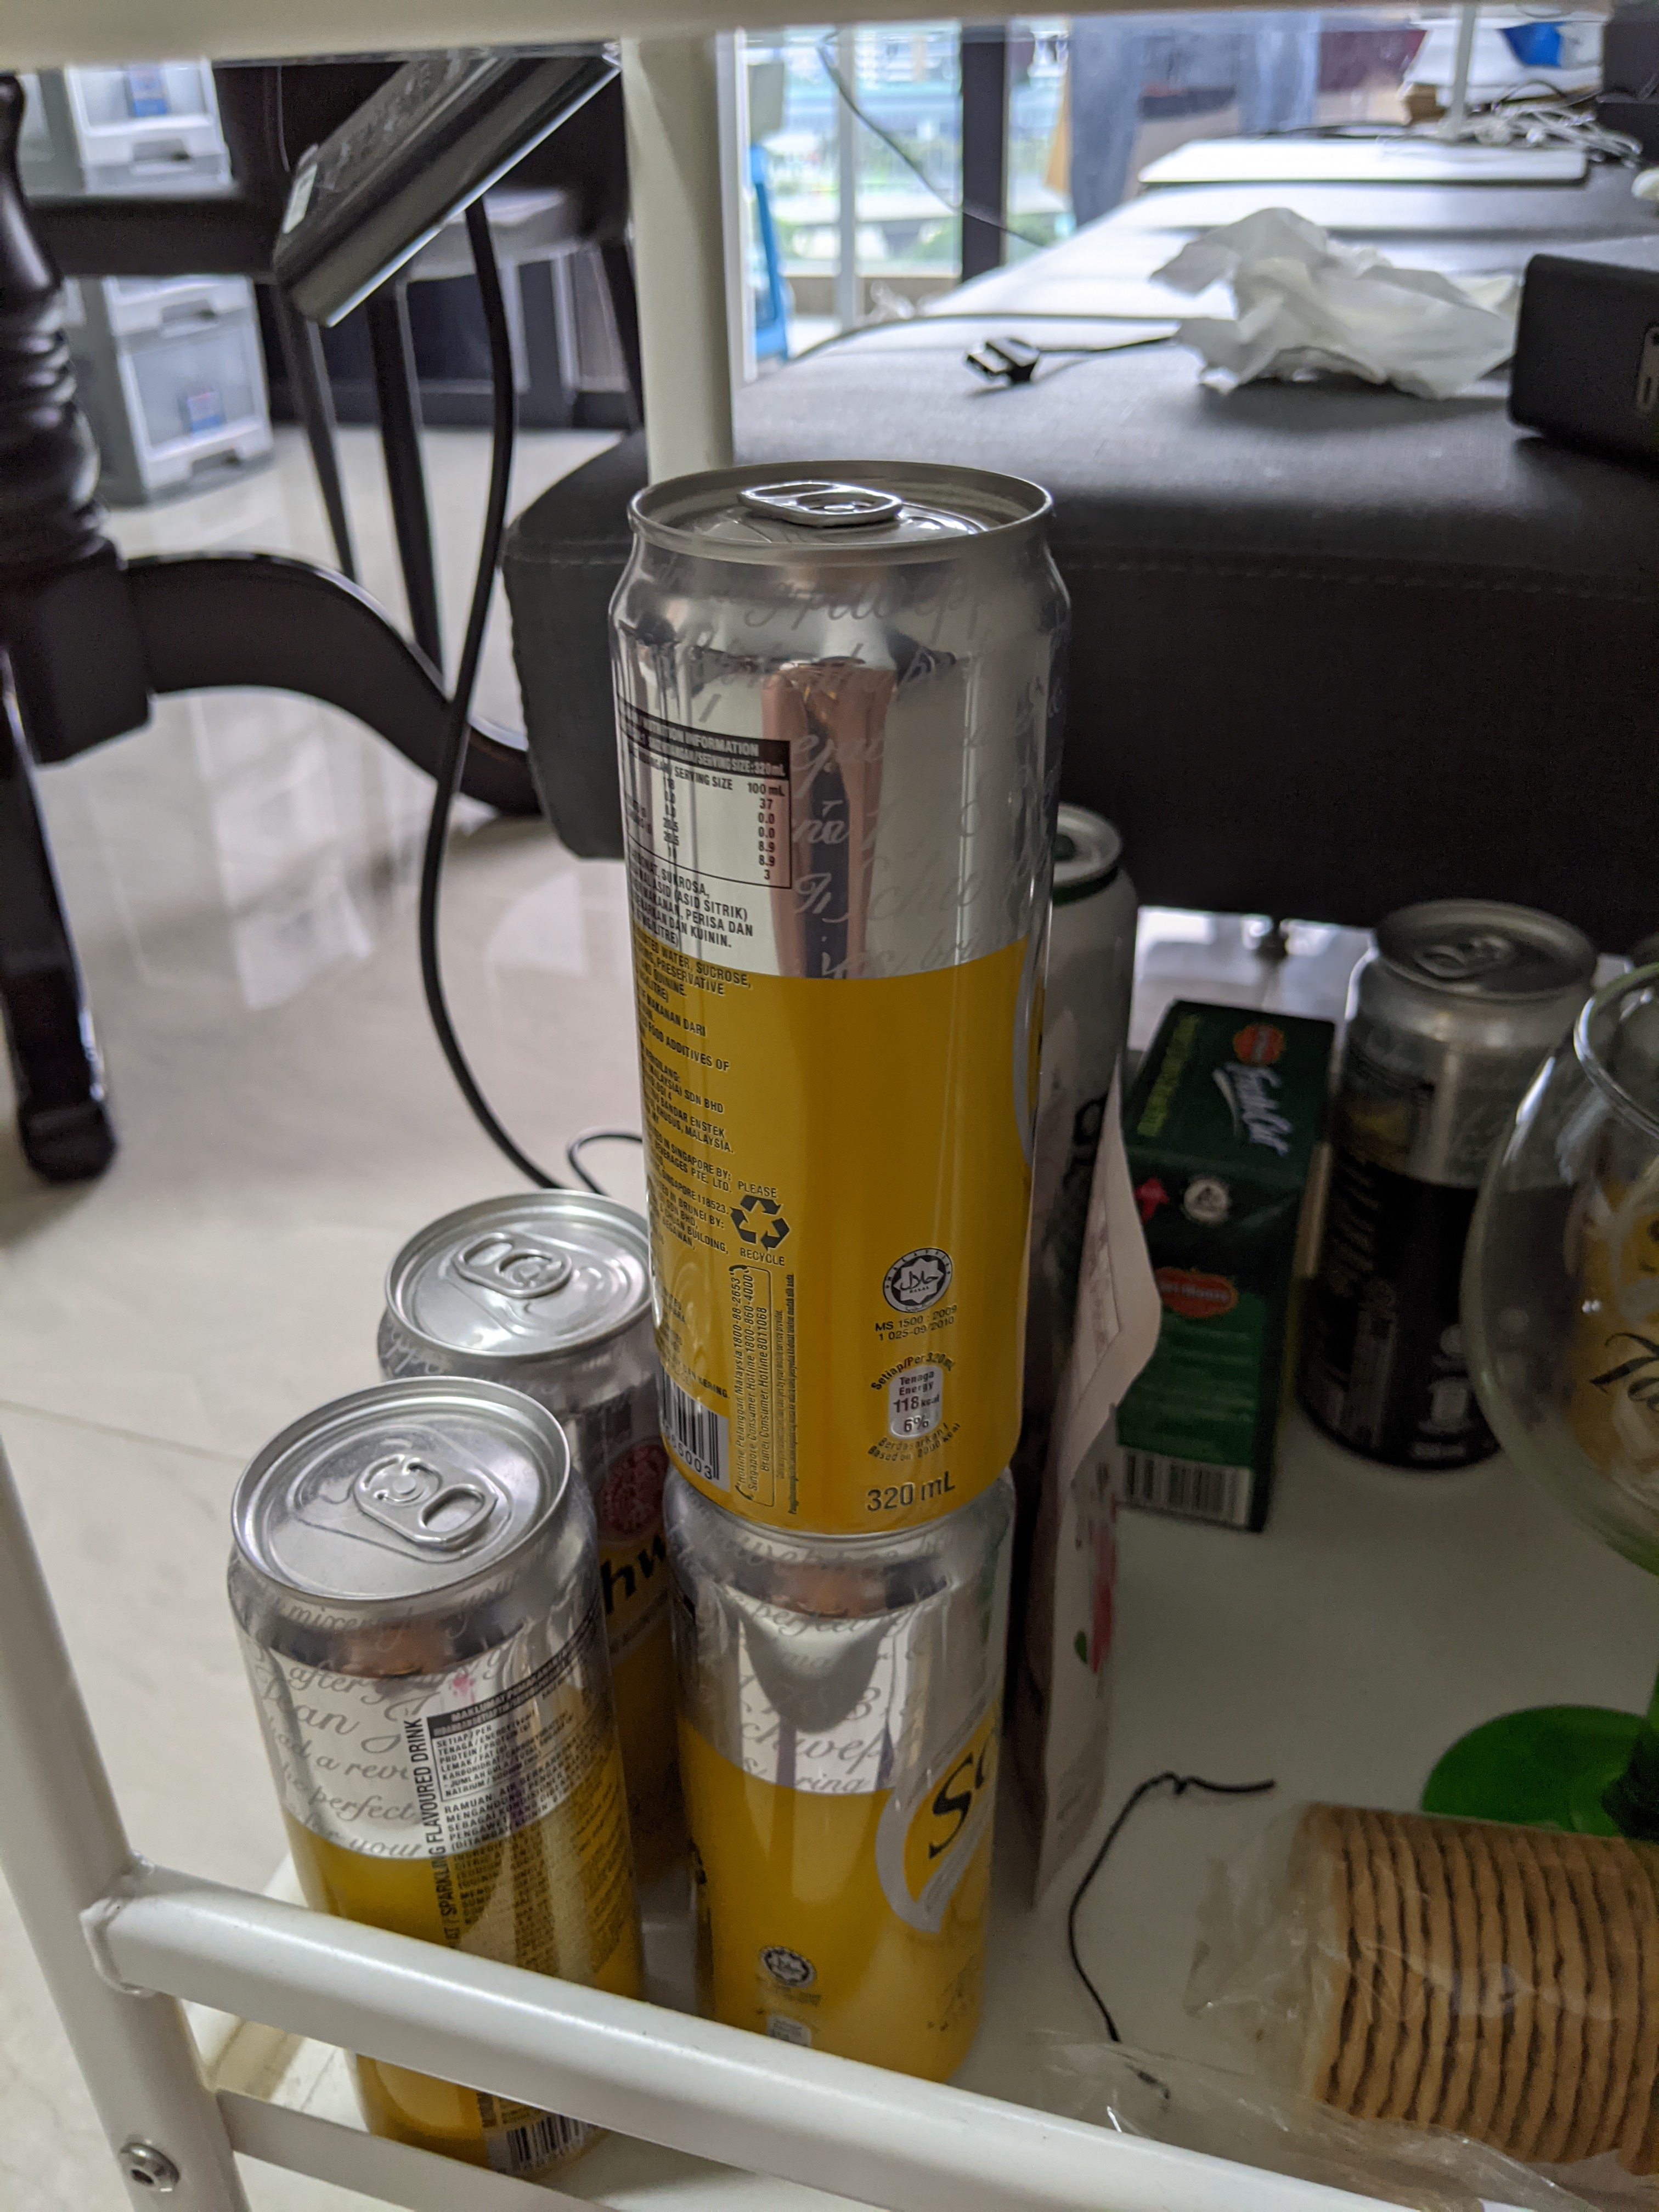schweppes drink can tonic water: (598, 437, 1086, 1566)
